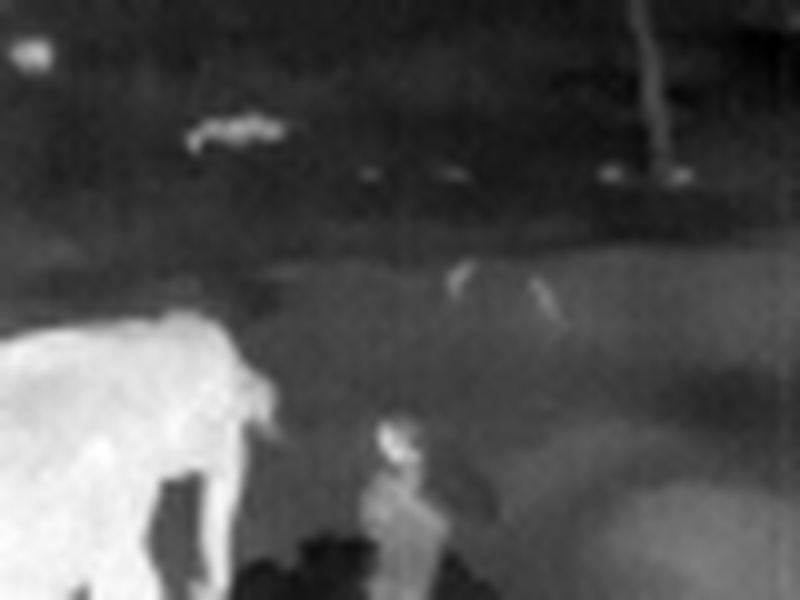elephant: (1, 317, 259, 600)
